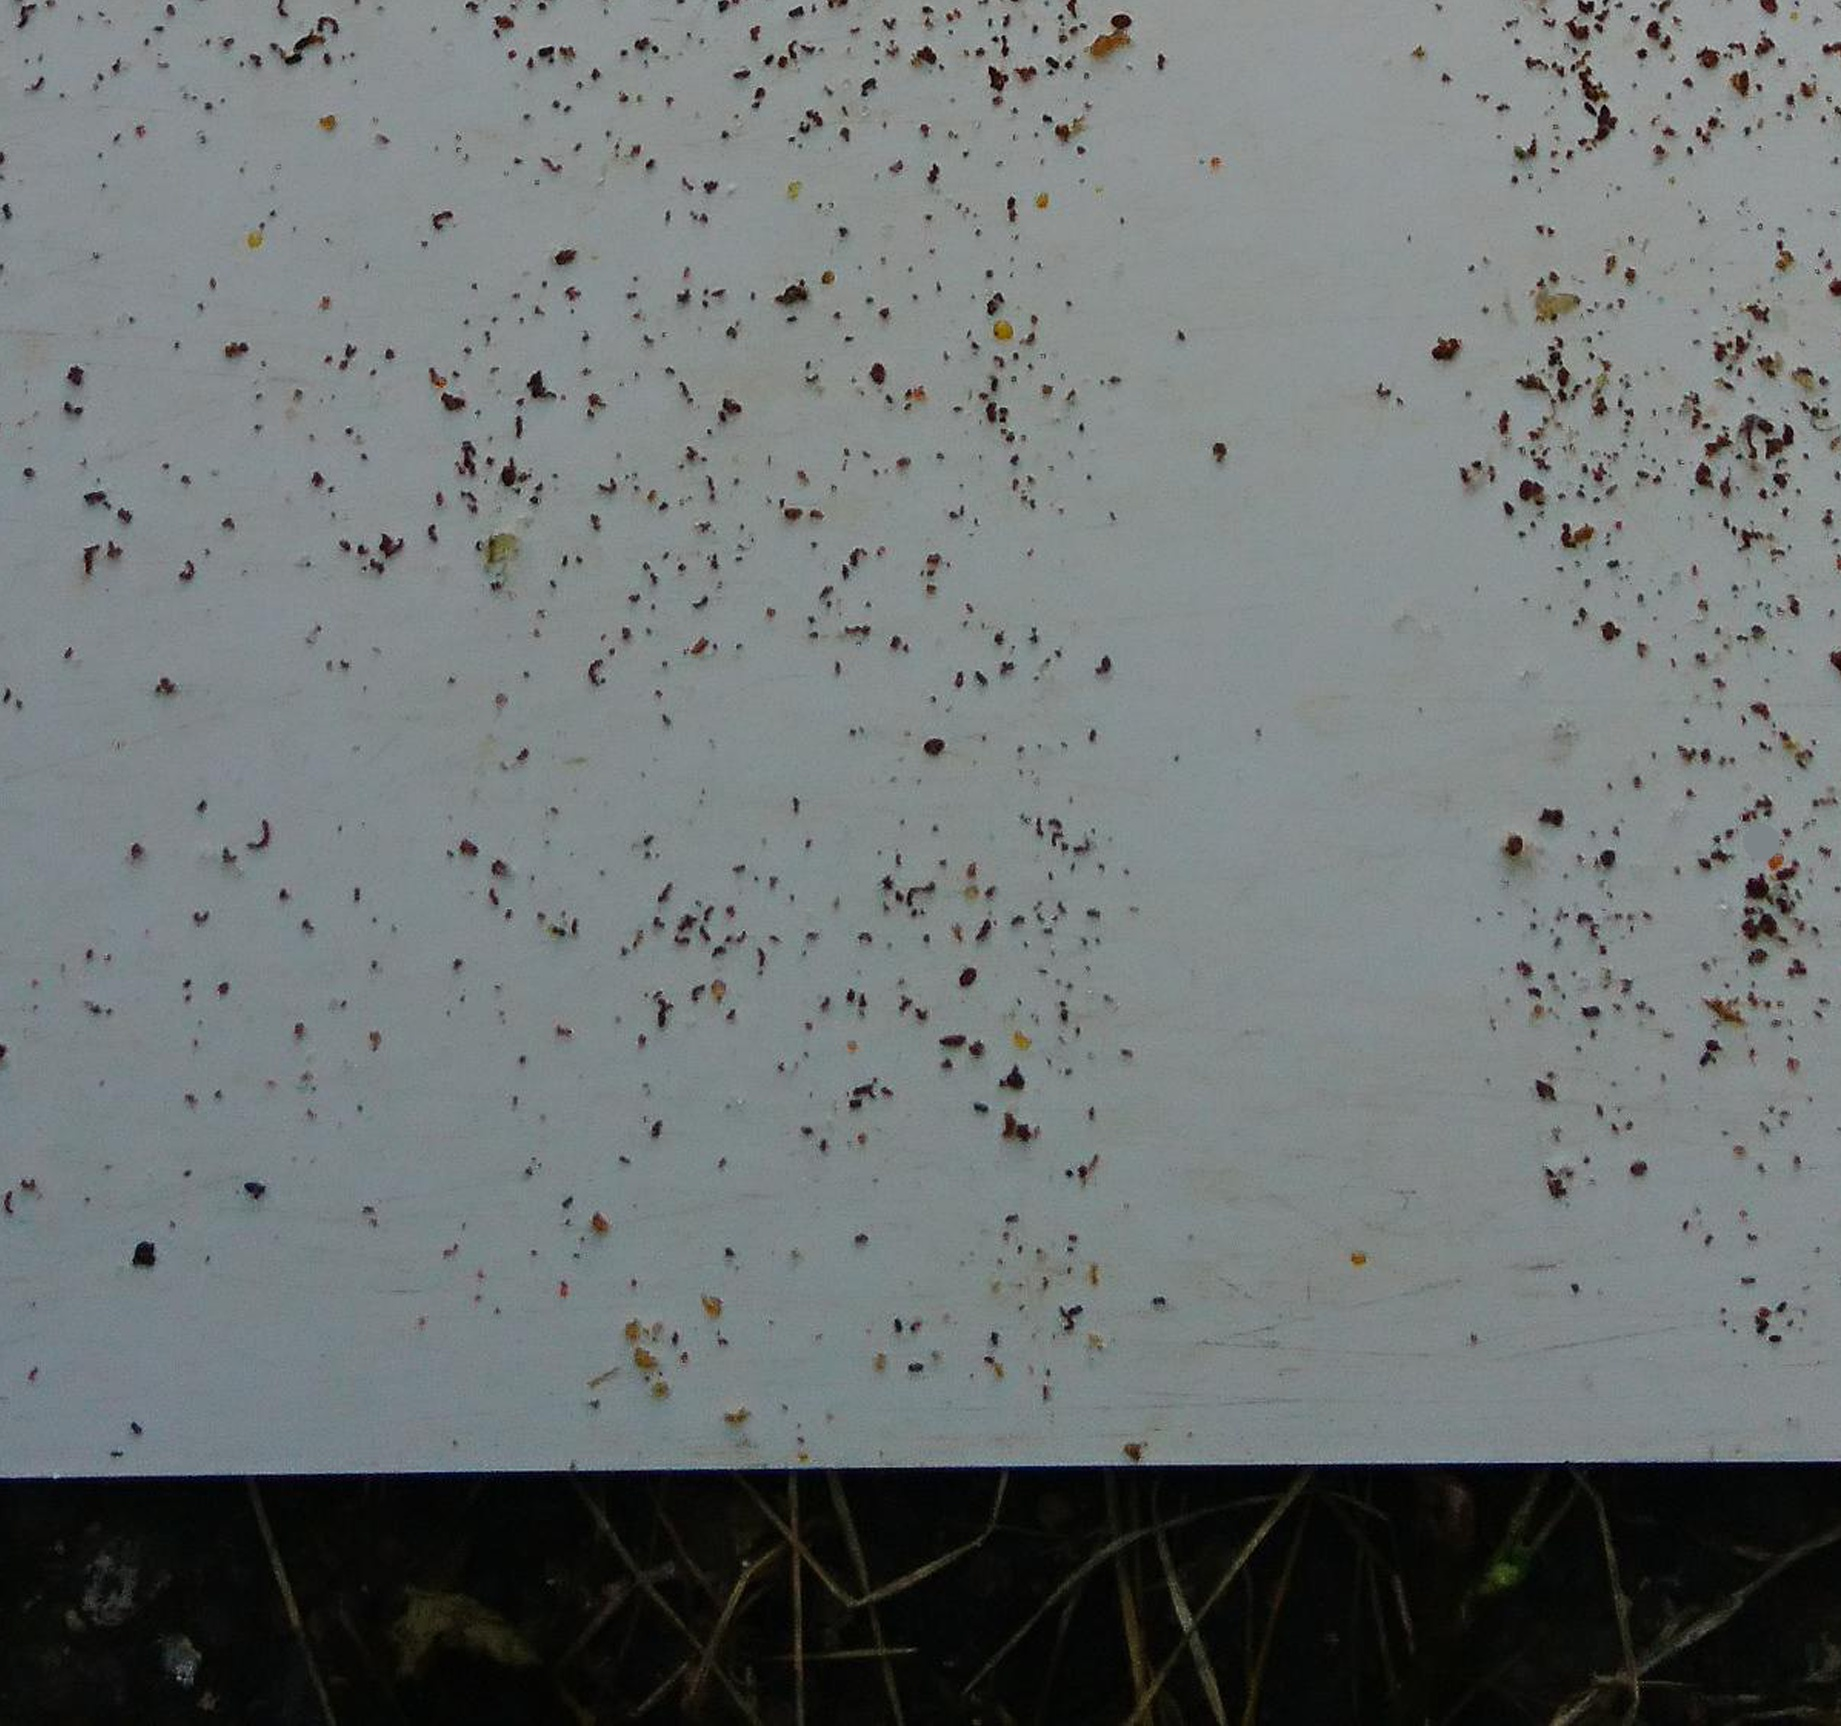Varroa: (989, 1050, 1033, 1093), (916, 732, 941, 758), (865, 363, 889, 389), (951, 965, 975, 990), (1499, 834, 1521, 857), (1108, 8, 1131, 29), (1630, 1158, 1651, 1181), (1518, 482, 1539, 504), (500, 466, 521, 488), (1122, 16, 1140, 36)
